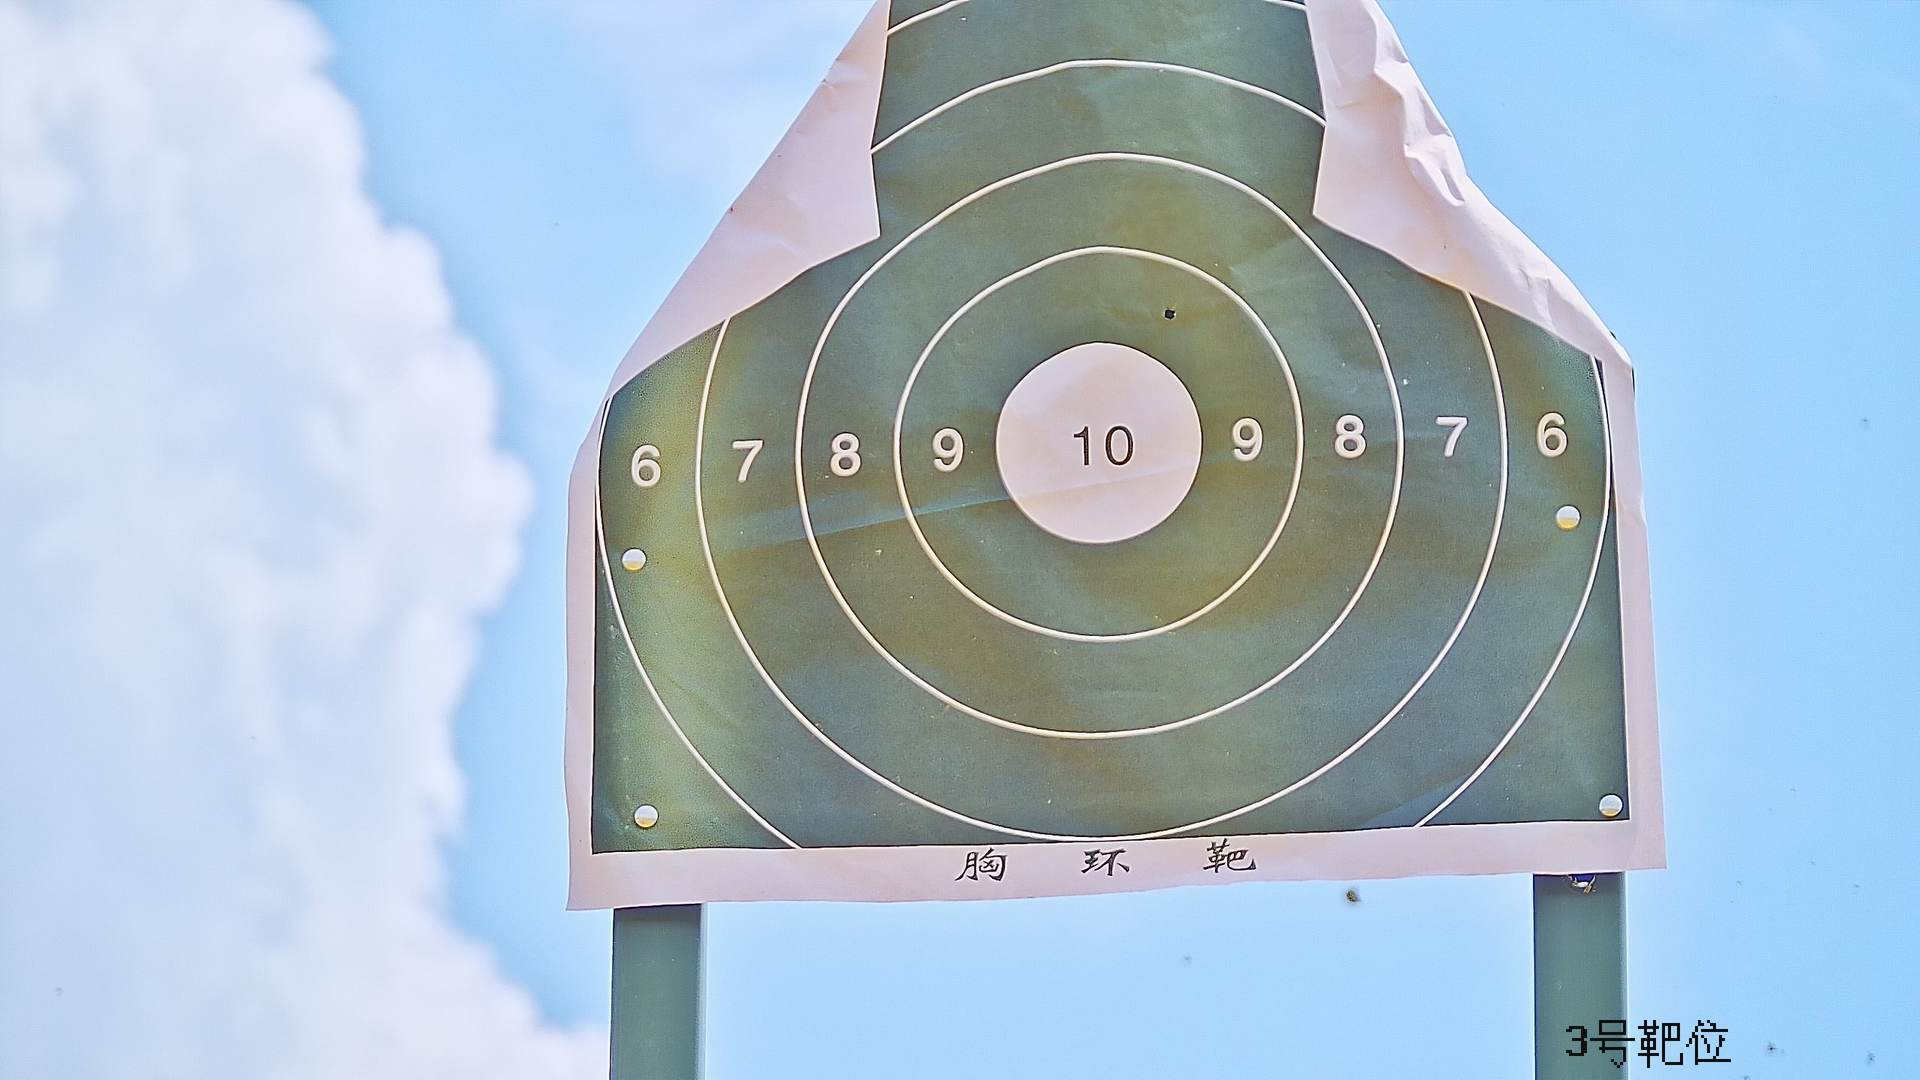hole: (1163, 305, 1176, 320)
kernel: (1092, 447, 1098, 448)
target: (603, 7, 1629, 843)
ten: (996, 342, 1201, 549)
